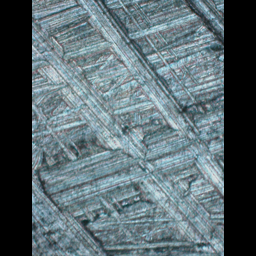d: (31, 6, 220, 252), (32, 170, 113, 255)
